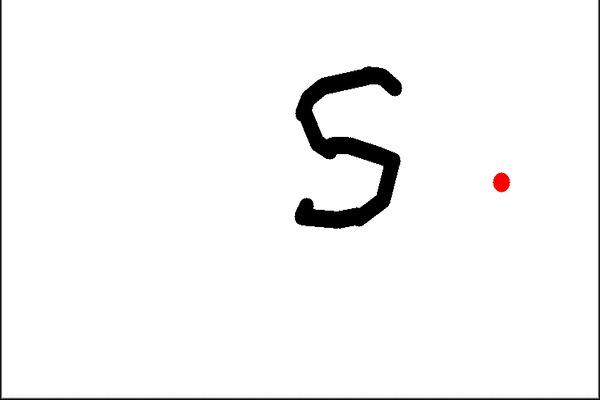S: (287, 60, 409, 233)
